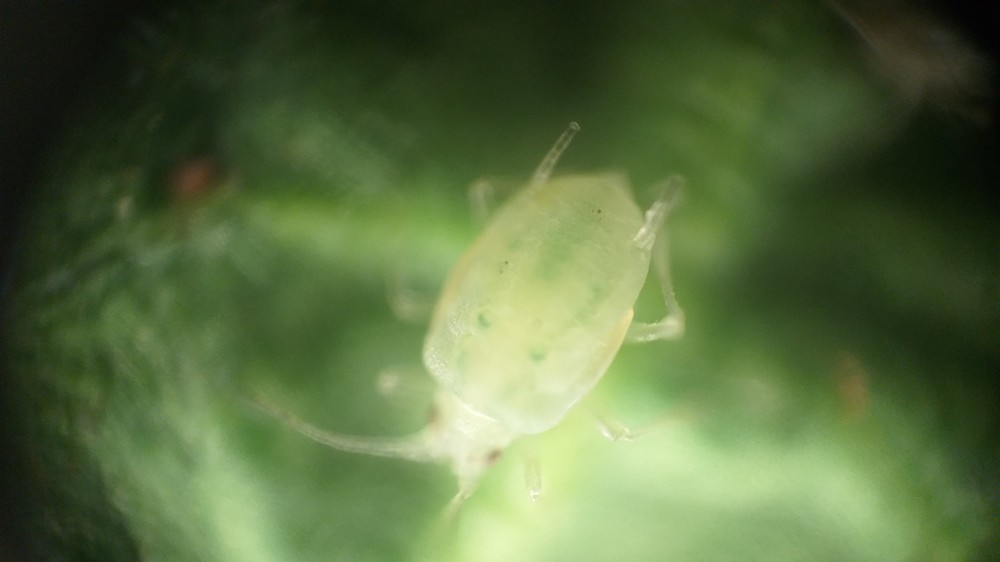Pulgon: (257, 103, 762, 554)
